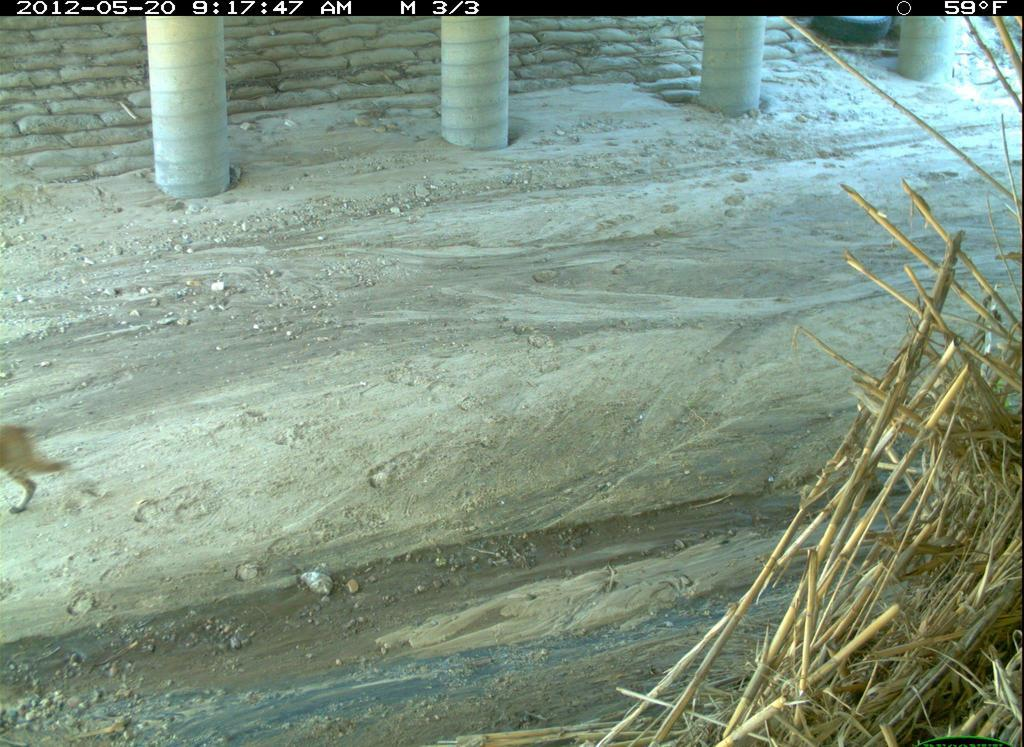bobcat: (2, 415, 82, 520)
